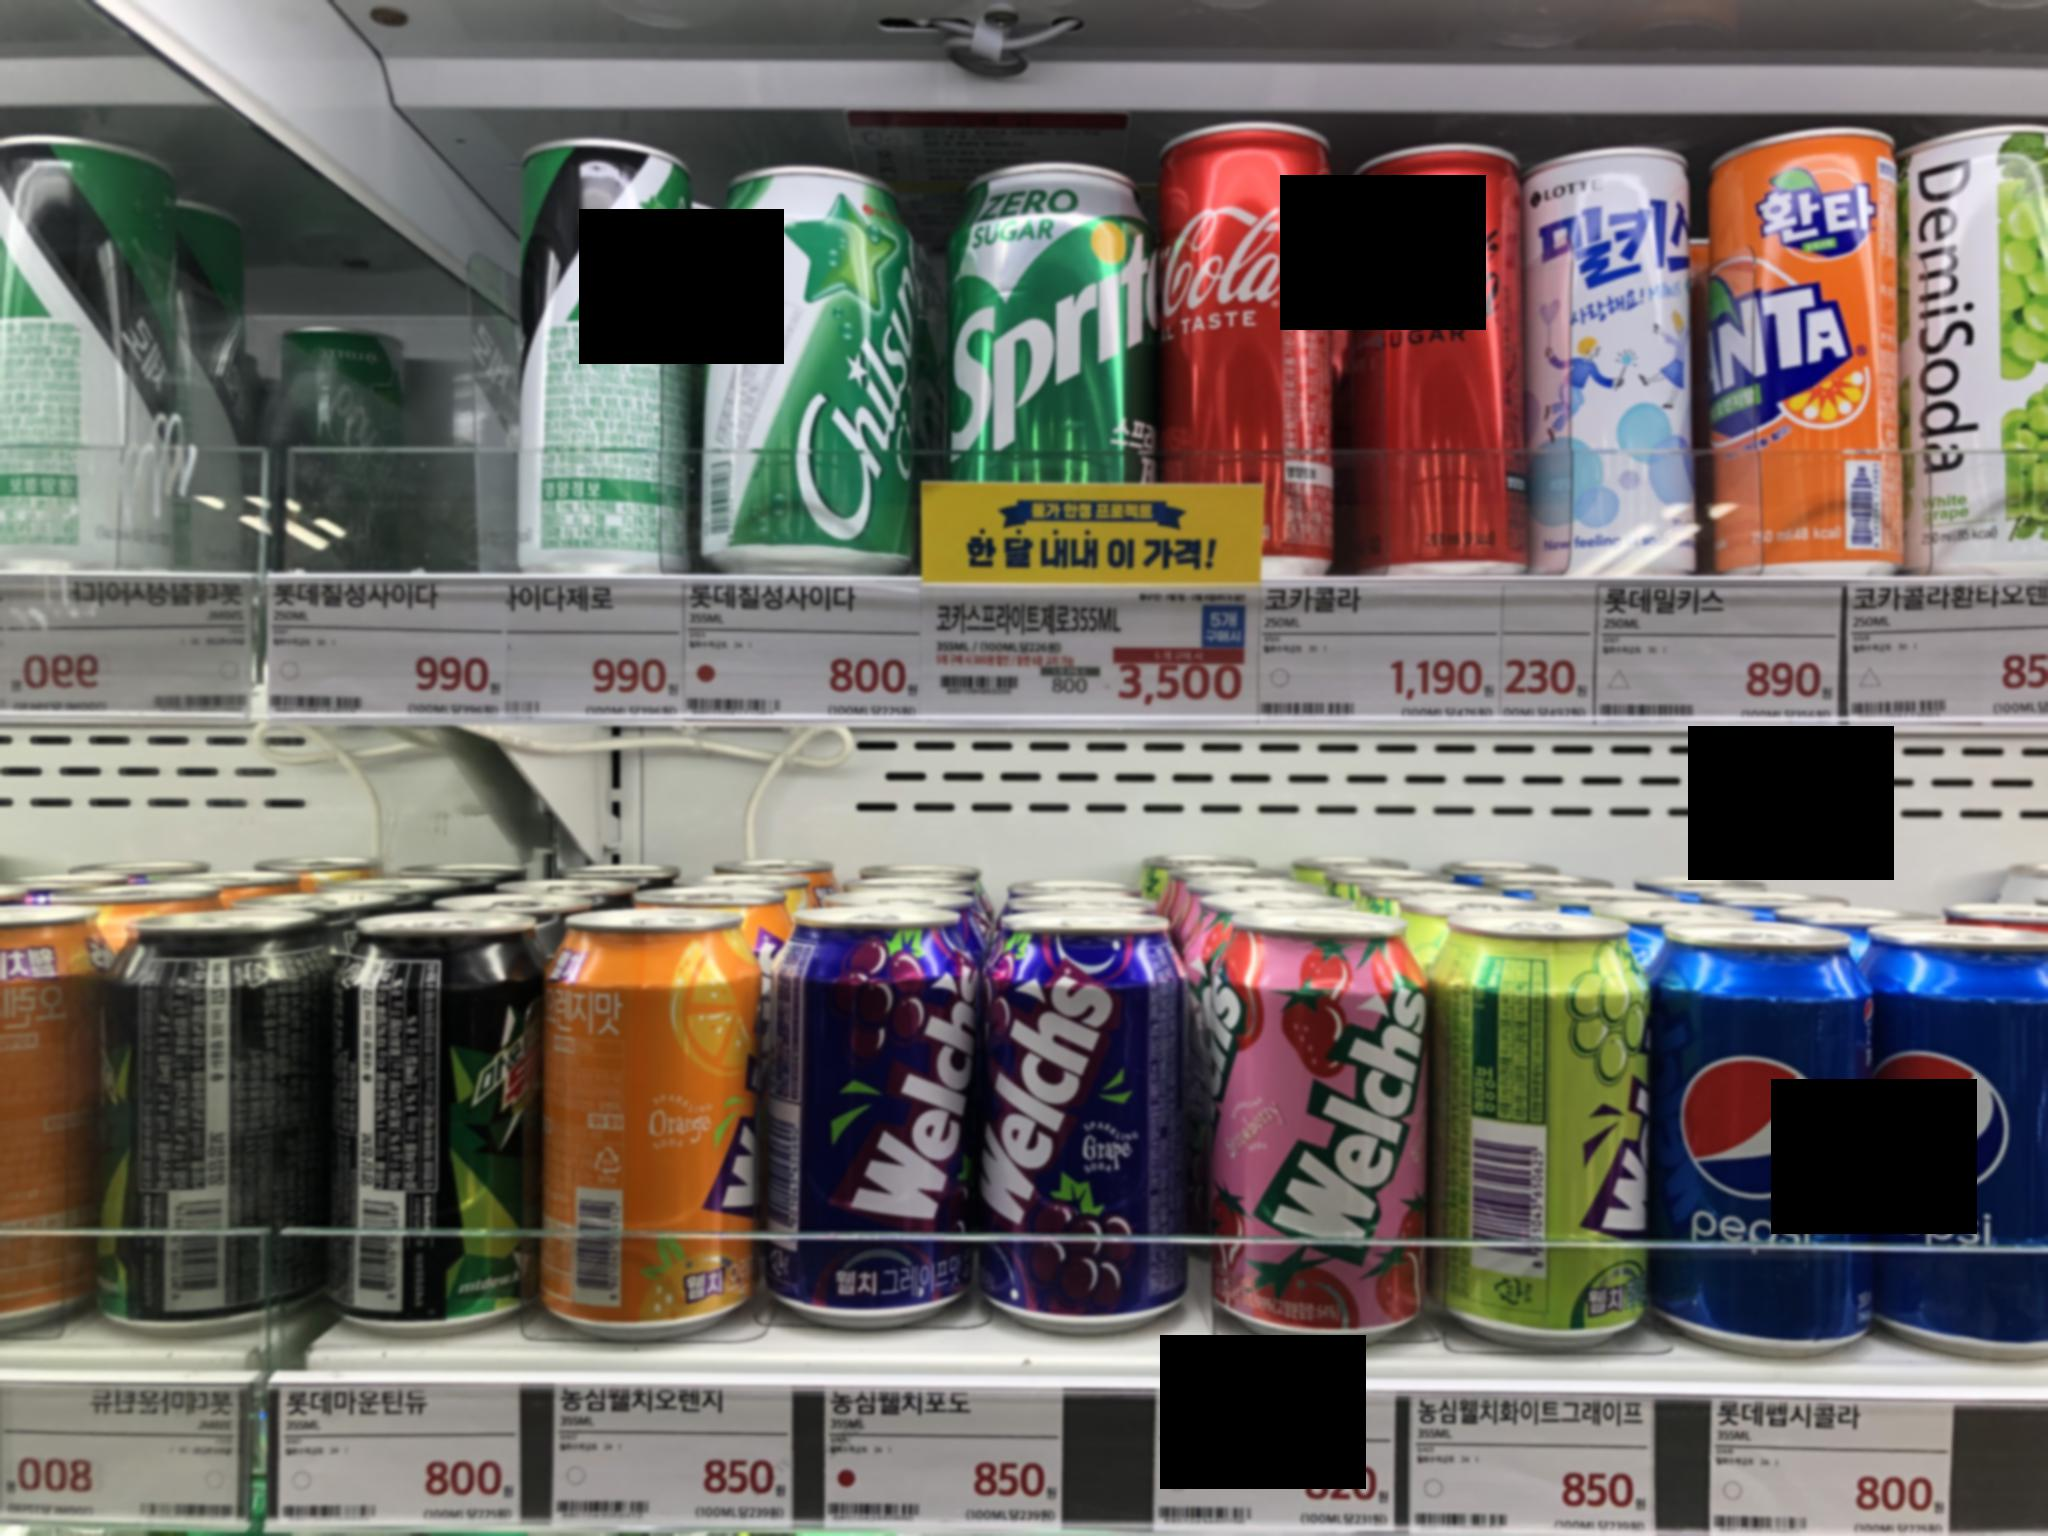chilsungcider: (703, 147, 903, 557)
chilsungcider_zero: (490, 116, 711, 566)
fanta_orange: (545, 889, 755, 1338)
welchs_grape: (971, 894, 1182, 1326), (789, 899, 977, 1350)
